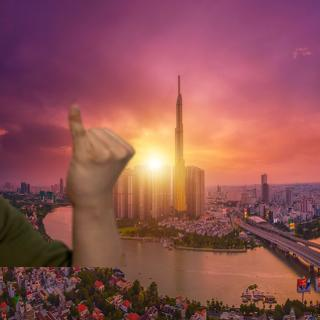FINE: (57, 99, 139, 212)
